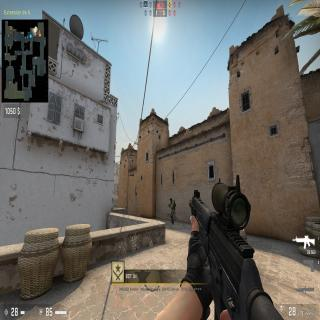CT-Head: (170, 198, 172, 202)
